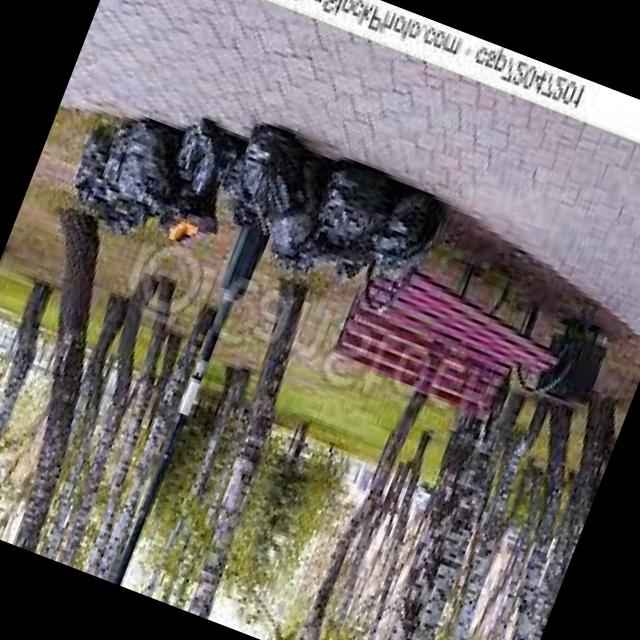high trash: (75, 120, 439, 278)
